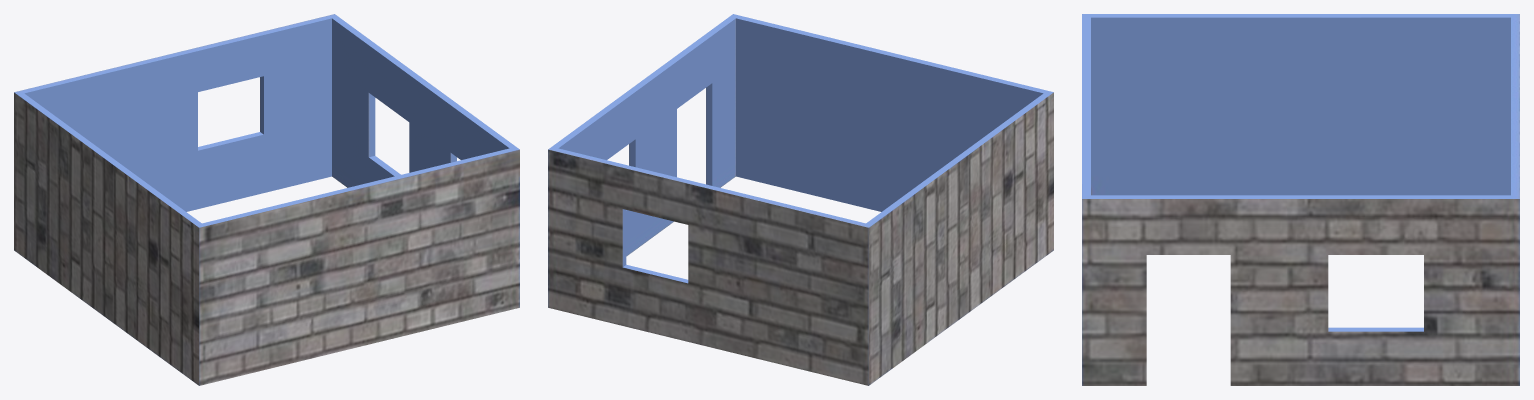
The model's file is house.dae.
3 renders of one model, left to right at view 1: azimuth 30°, elevation 25°; view 2: azimuth 150°, elevation 25°; view 3: azimuth 270°, elevation 25°, orthographic. The views are drawn at different scales.
Parts seen in each view (by area): view 1: SketchUp; view 2: SketchUp; view 3: SketchUp.
Boxes of the visible parts, left/top/right/bottom form: SketchUp: left=14, top=14, right=519, bottom=385; SketchUp: left=548, top=14, right=1053, bottom=385; SketchUp: left=1082, top=14, right=1519, bottom=385.
Bounding box in the file's own units: 5.85 × 5.85 × 2.75.
1 material, 1 textured.
